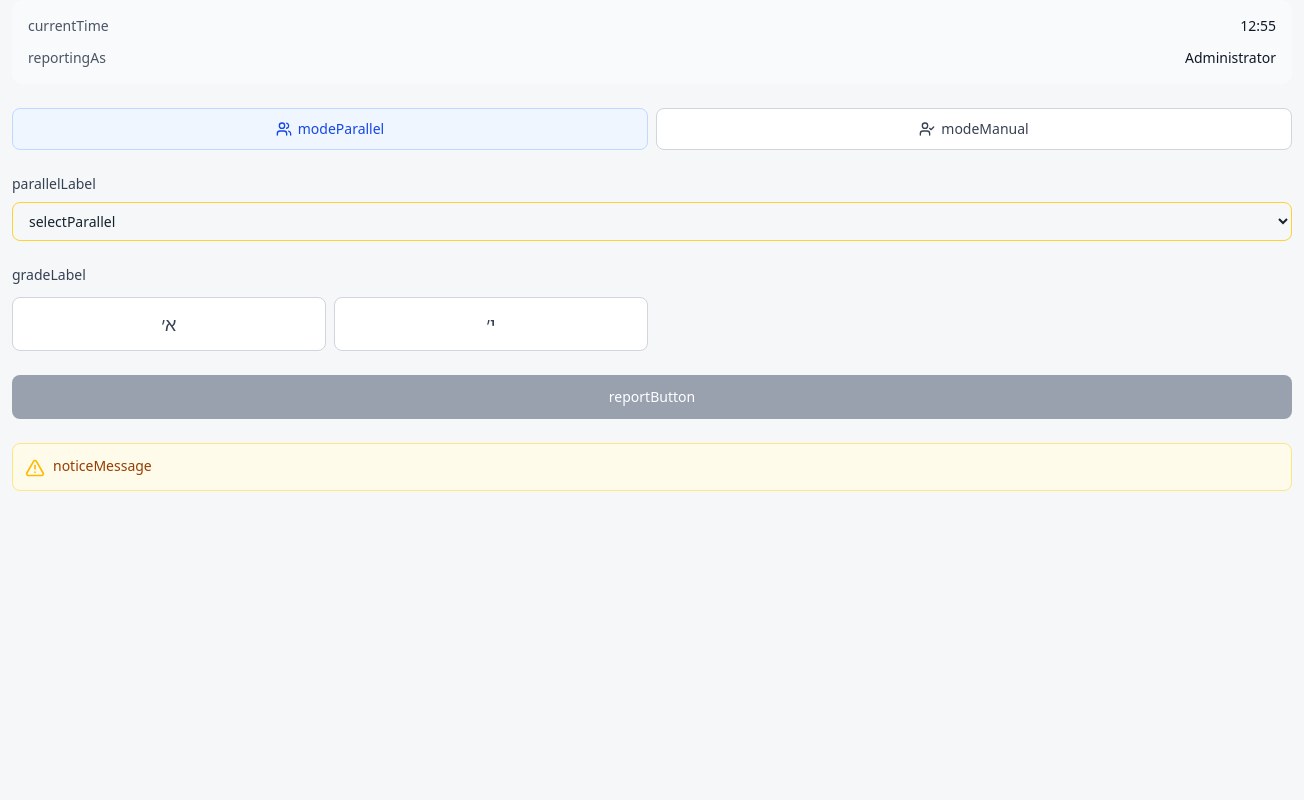
ManagementReportForm › selects grade that needs profile and shows profile options
Note: Select grade 'yud' (needs profile)
Click the button with test id "select-parallel" showing "י׳" at [491, 324], box [334, 297, 648, 351]
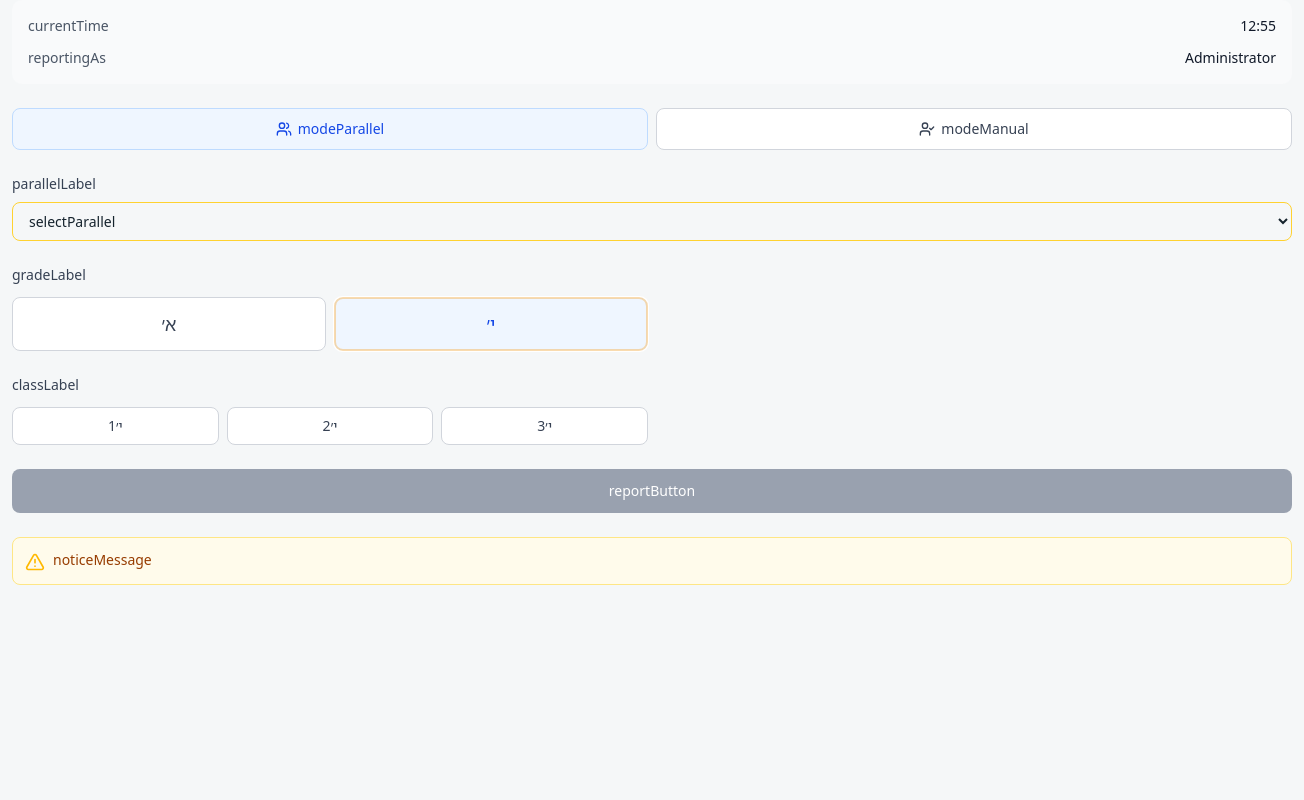
Note: Select class number
Click the button "י׳1" at [115, 426], box [12, 407, 219, 445]
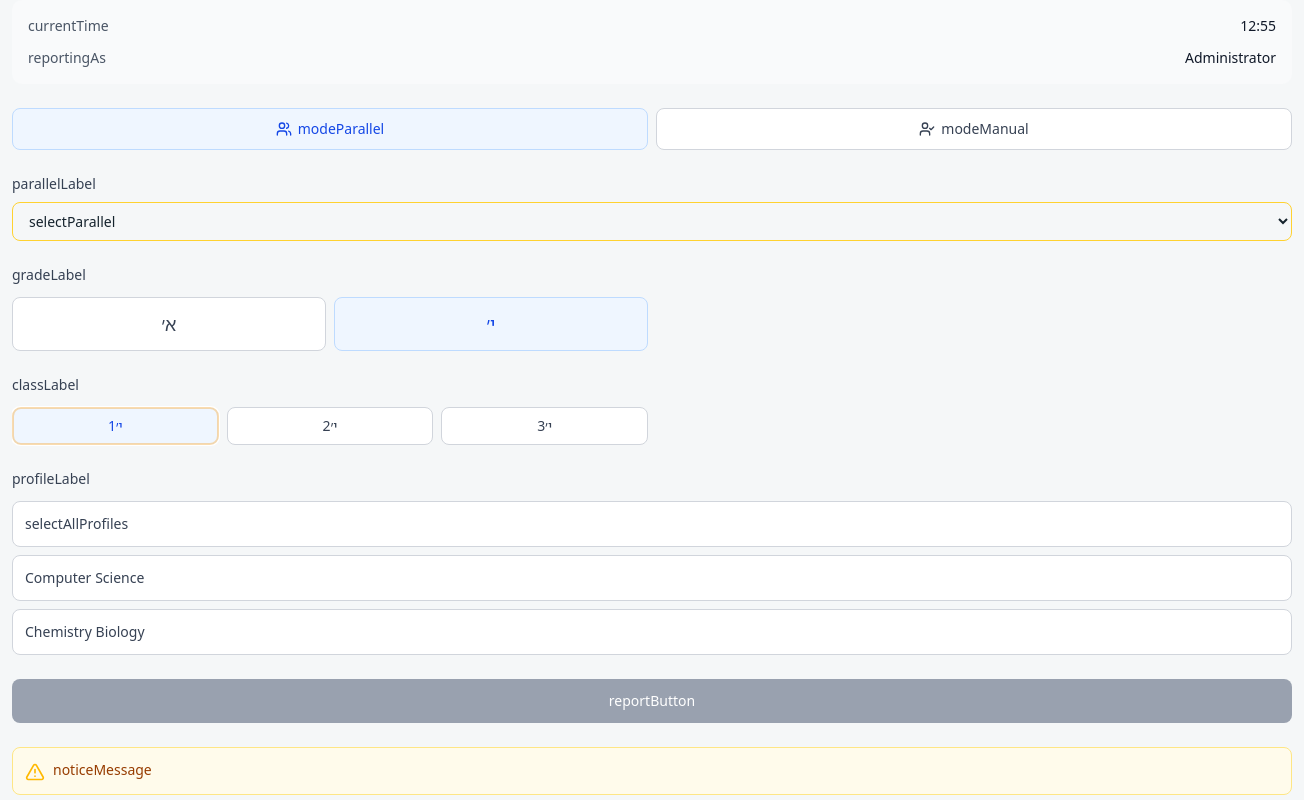
Now the text "profileLabel" is shown, box [12, 469, 90, 488]
Now the number of buttons with test id "select-profile" is 2, box [12, 555, 1292, 601]; [12, 609, 1292, 655]
